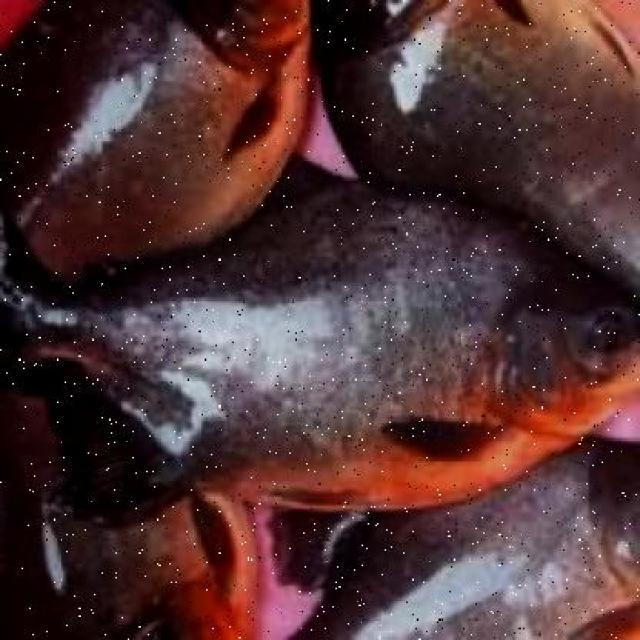ikan-pacu: (6, 185, 634, 507), (0, 0, 314, 258)
